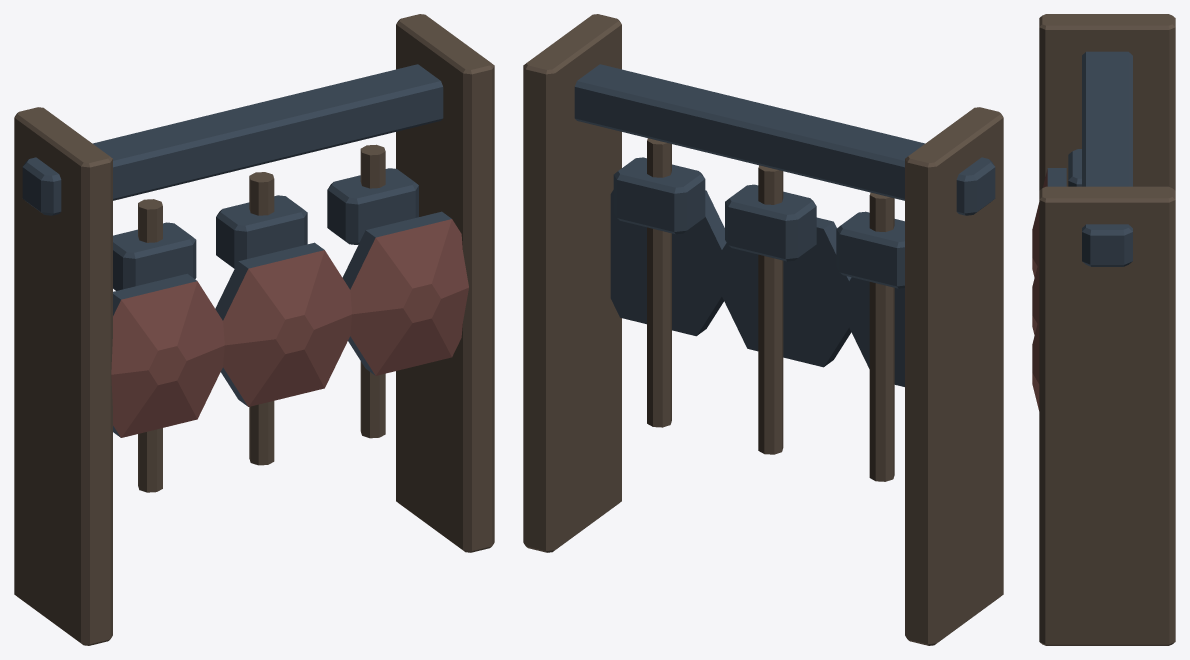
File: shield-rack.glb
The picture shows the model from 3 angles, left to right: view 1: azimuth 30°, elevation 25°; view 2: azimuth 150°, elevation 25°; view 3: azimuth 270°, elevation 25°; orthographic projection. The views are drawn at different scales.
Visible parts, largest first — view 1: shield-rack__body; view 2: shield-rack__body; view 3: shield-rack__body.
Boxes of the visible parts, left/top/right/bottom form: shield-rack__body: left=14, top=14, right=494, bottom=645; shield-rack__body: left=523, top=14, right=1003, bottom=645; shield-rack__body: left=1032, top=14, right=1175, bottom=645.
Bounding box in the file's own units: 1.4 × 1.45 × 0.42.
